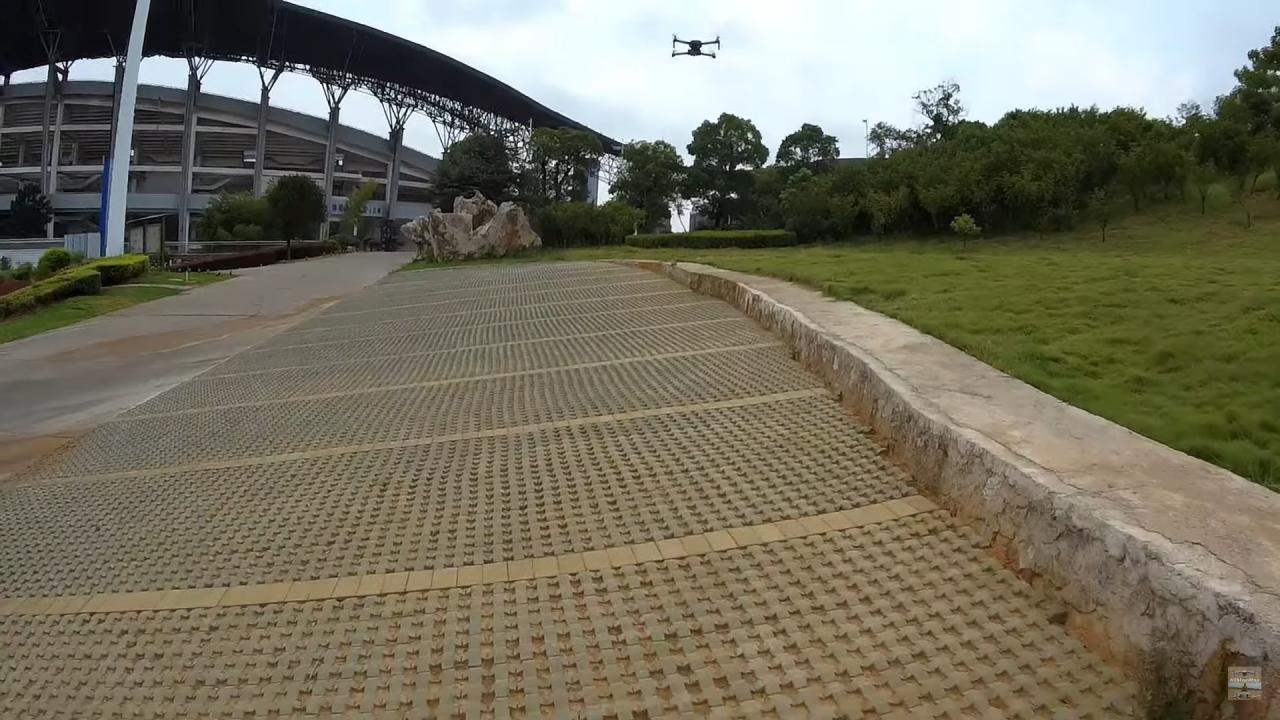Drone: (661, 24, 729, 68)
